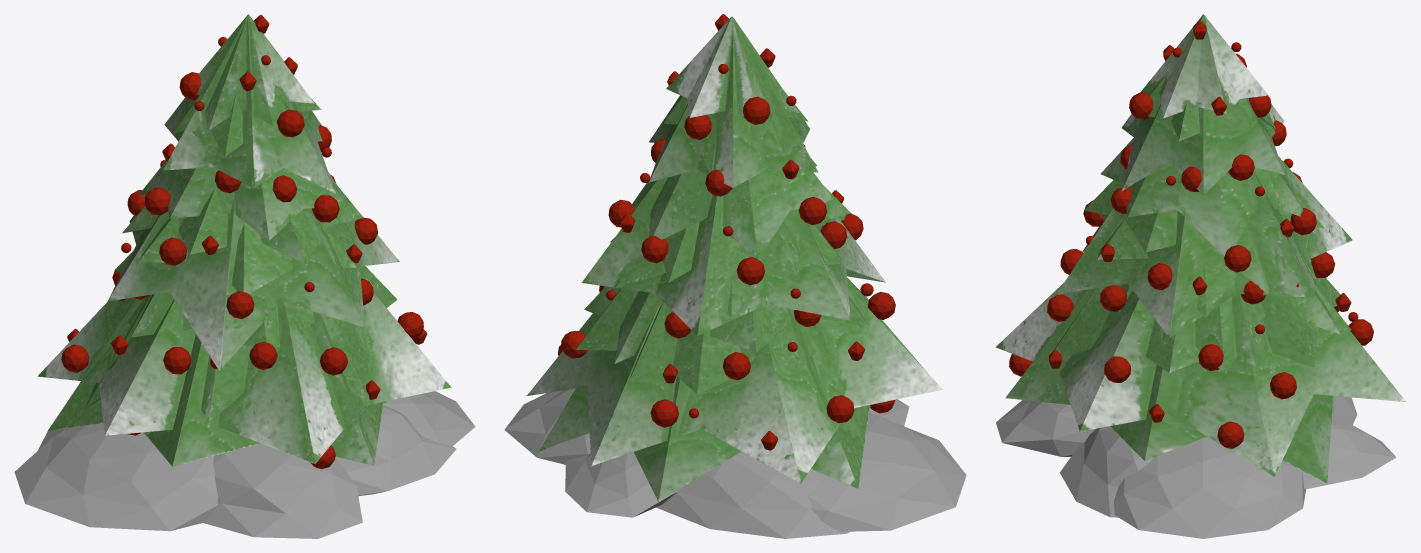
File: uploads_files_3409994_ChristmasTree_2021_v4.fbx
3 renders of one model, left to right at view 1: azimuth 30°, elevation 25°; view 2: azimuth 150°, elevation 25°; view 3: azimuth 270°, elevation 25°, orthographic. The views are drawn at different scales.
Parts seen in each view (by area): view 1: Tree_D, Icosphere, Icosphere.026, Icosphere.018, Icosphere.002, Icosphere.011, Icosphere.041, Icosphere.019, Icosphere.028, Icosphere.025, Icosphere.012; view 2: Tree_D, Icosphere, Icosphere.022, Icosphere.011, Icosphere.012, Icosphere.013, Icosphere.027, Icosphere.029, Icosphere.026, Icosphere.004, Icosphere.023; view 3: Tree_D, Icosphere, Icosphere.015, Icosphere.006, Icosphere.008, Icosphere.007, Icosphere.017, Icosphere.019, Icosphere.024, Icosphere.016, Icosphere.028, Icosphere.014 (+1 smaller).
Part boxes in pixels (x1,y1,x2,y2): Tree_D: [37, 14, 451, 466]; Icosphere: [14, 391, 475, 538]; Icosphere.026: [163, 347, 191, 374]; Icosphere.018: [249, 341, 277, 369]; Icosphere.002: [159, 237, 186, 265]; Icosphere.011: [61, 344, 89, 372]; Icosphere.041: [226, 291, 254, 318]; Icosphere.019: [320, 347, 347, 375]; Icosphere.028: [276, 109, 304, 137]; Icosphere.025: [312, 195, 339, 222]; Icosphere.012: [144, 187, 170, 215]; Tree_D: [527, 16, 942, 501]; Icosphere: [504, 389, 966, 538]; Icosphere.022: [650, 399, 678, 427]; Icosphere.011: [826, 395, 854, 423]; Icosphere.012: [799, 196, 827, 224]; Icosphere.013: [736, 257, 765, 285]; Icosphere.027: [723, 352, 750, 380]; Icosphere.029: [743, 96, 770, 124]; Icosphere.026: [867, 292, 895, 319]; Icosphere.004: [641, 236, 668, 263]; Icosphere.023: [684, 115, 711, 139]; Tree_D: [995, 14, 1406, 483]; Icosphere: [996, 396, 1396, 538]; Icosphere.015: [1224, 245, 1251, 272]; Icosphere.006: [1270, 372, 1296, 399]; Icosphere.008: [1104, 356, 1130, 382]; Icosphere.007: [1100, 285, 1126, 311]; Icosphere.017: [1217, 421, 1244, 448]; Icosphere.019: [1047, 294, 1073, 321]; Icosphere.024: [1198, 344, 1223, 370]; Icosphere.016: [1147, 263, 1172, 290]; Icosphere.028: [1129, 92, 1152, 119]; Icosphere.014: [1228, 154, 1254, 180].
Bounding box in the file's own units: 515 × 524 × 437.
Materials: 7 (5 with a texture image).
